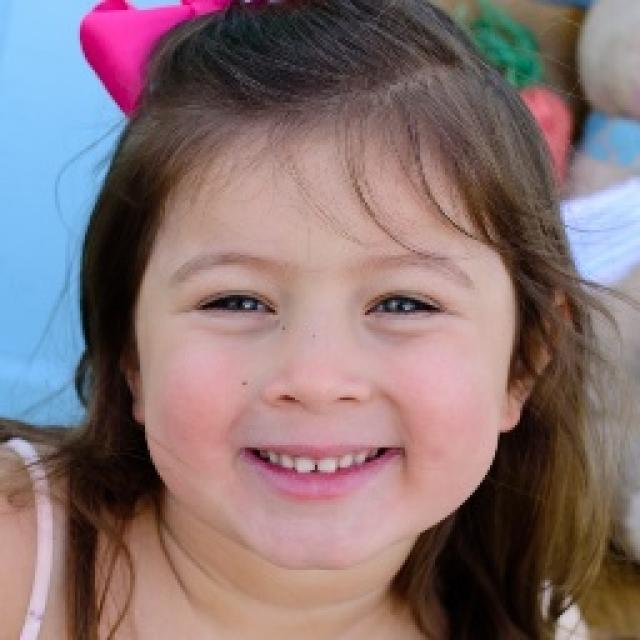earlobe: (496, 380, 529, 434), (128, 376, 149, 428)
eye: (189, 284, 282, 318), (362, 288, 445, 321)
nose: (264, 391, 366, 431)
wholeear: (496, 279, 571, 435)
